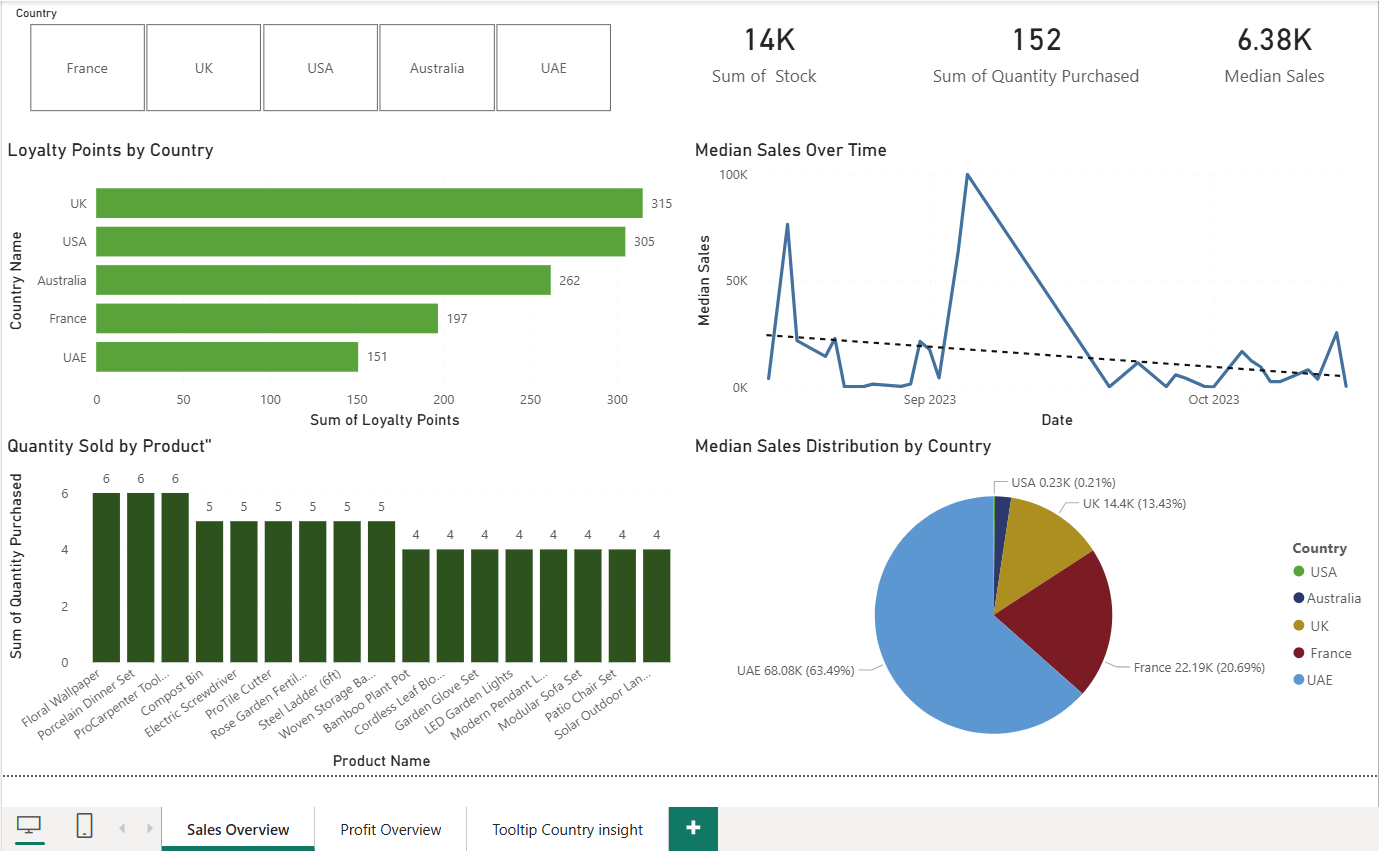

This screenshot's page, from the dashboard's own definition file:
{"tool":"powerbi","page":{"name":"Sales Overview","canvas":[1280,720],"ordinal":0},"visuals":[{"type":"clusteredBarChart","title":"Loyalty Points by Country","fields":{"Category":["Sales in USD.Country Name"],"Y":["Sum(Sales in USD. Loyalty Points)"]},"box":[0,128.3,640,275.2],"z":0},{"type":"clusteredColumnChart","title":"Quantity Sold by Product\"","fields":{"Y":["Sum(Sales in USD.Quantity Purchased)"],"Category":["Sales.Product Name"]},"box":[0,403.5,640,316.7],"z":1000},{"type":"pieChart","title":"Median Sales Distribution by Country","fields":{"Category":["Countries.Country"],"Y":["Sales in USD.Median Sales"]},"box":[640,403.3,640,316.7],"z":2000},{"type":"lineChart","title":"Median Sales Over Time","fields":{"Y":["Sales in USD.Median Sales"],"Category":["CalendarTable.Date"]},"box":[640,128.3,640,275.2],"z":3000},{"type":"card","fields":{"Values":["Sum(Sales in USD. Stock  )"]},"box":[590.6,0,245.8,89.5],"z":4000},{"type":"card","fields":{"Values":["Sum(Sales in USD.Quantity Purchased)"]},"box":[836.4,0,252.5,89.5],"z":5000},{"type":"card","fields":{"Values":["Sales in USD.Median Sales"]},"box":[1088.9,0,191.1,89.5],"z":6000},{"type":"slicer","fields":{"Values":["Countries.Country"]},"box":[0,0,590.6,109.6],"z":7000}]}

Visuals, with their boxes on the page's 1280x720 design canvas (x1, y1, x2, y2). These are canvas units, not pixel positions in the 1379x851 screenshot, which may show the page scaled, cropped or inside an application window:
"Loyalty Points by Country" clusteredBarChart: [x1=0, y1=128, x2=640, y2=404]
"Quantity Sold by Product"" clusteredColumnChart: [x1=0, y1=404, x2=640, y2=720]
"Median Sales Distribution by Country" pieChart: [x1=640, y1=403, x2=1280, y2=720]
"Median Sales Over Time" lineChart: [x1=640, y1=128, x2=1280, y2=404]
card - Sum(Sales in USD. Stock  ): [x1=591, y1=0, x2=836, y2=90]
card - Sum(Sales in USD.Quantity Purchased): [x1=836, y1=0, x2=1089, y2=90]
card - Sales in USD.Median Sales: [x1=1089, y1=0, x2=1280, y2=90]
slicer - Countries.Country: [x1=0, y1=0, x2=591, y2=110]
